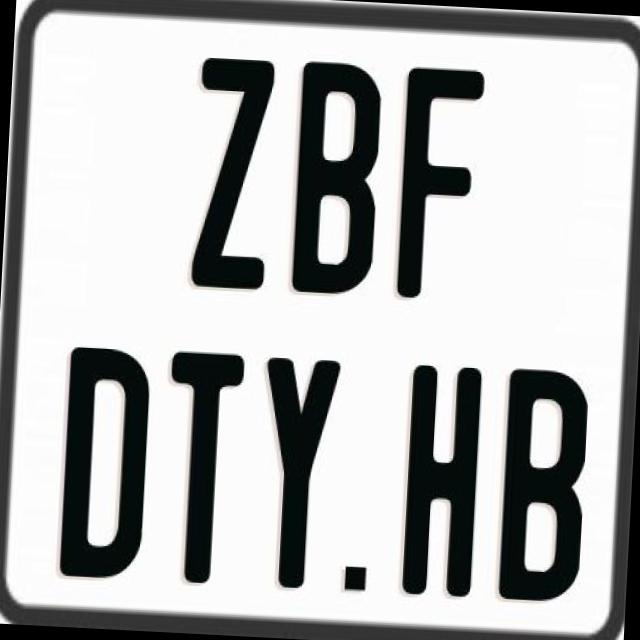B: (288, 60, 382, 298), (498, 365, 588, 609)
D: (58, 347, 153, 580)
F: (396, 61, 486, 298)
H: (402, 362, 489, 604)
T: (158, 346, 250, 582)
Y: (255, 356, 346, 588)
Z: (188, 55, 279, 294)
